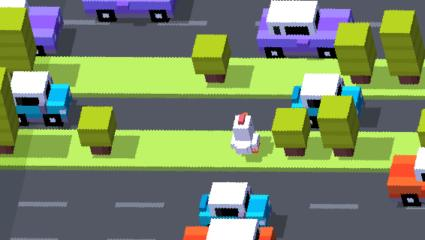hen: (232, 114, 261, 154)
obstacle: (257, 0, 354, 56), (290, 74, 367, 128), (0, 0, 62, 53), (198, 183, 273, 226), (380, 10, 424, 77), (0, 7, 38, 73), (317, 97, 358, 158), (82, 0, 179, 23), (334, 24, 372, 81), (12, 72, 48, 127), (391, 149, 425, 207), (193, 34, 232, 83), (186, 219, 277, 240), (77, 107, 115, 155), (272, 108, 308, 156), (0, 88, 19, 155), (48, 75, 71, 127), (399, 76, 420, 84)
